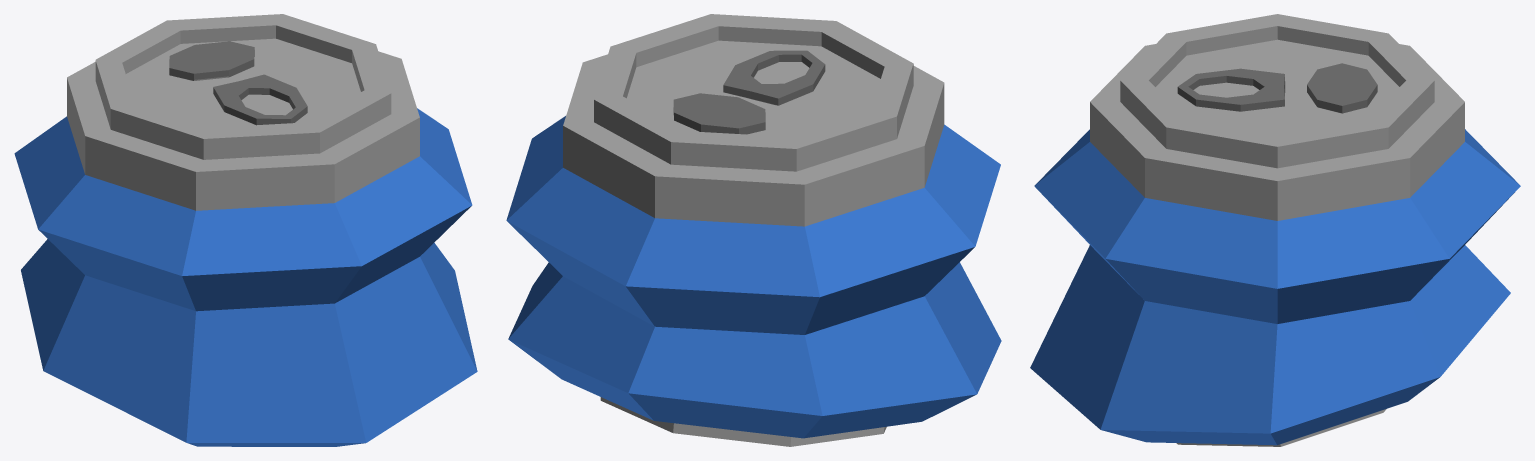
The model's file is BlueCan Crushed.fbx.
3 views of the same model, side by side, from view 1: azimuth 30°, elevation 25°; view 2: azimuth 150°, elevation 25°; view 3: azimuth 270°, elevation 25° (orthographic). The views are drawn at different scales.
Parts seen in each view (by area): view 1: Cube.013, Cube.011, Cube.012; view 2: Cube.013, Cube.011, Cube.012; view 3: Cube.013, Cube.011, Cube.012.
Boxes of the visible parts, x1,y1,x2,y2 form: Cube.013: (14,14,477,446); Cube.011: (213,74,307,125); Cube.012: (169,41,254,80); Cube.013: (506,14,1001,446); Cube.011: (723,50,825,105); Cube.012: (673,93,765,134); Cube.013: (1030,14,1520,446); Cube.011: (1177,68,1285,111); Cube.012: (1307,63,1377,113).
Bounding box in the file's own units: 47.35 × 34.72 × 47.42.
